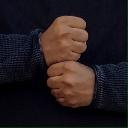hand: (38, 15, 88, 66), (47, 60, 95, 107)
